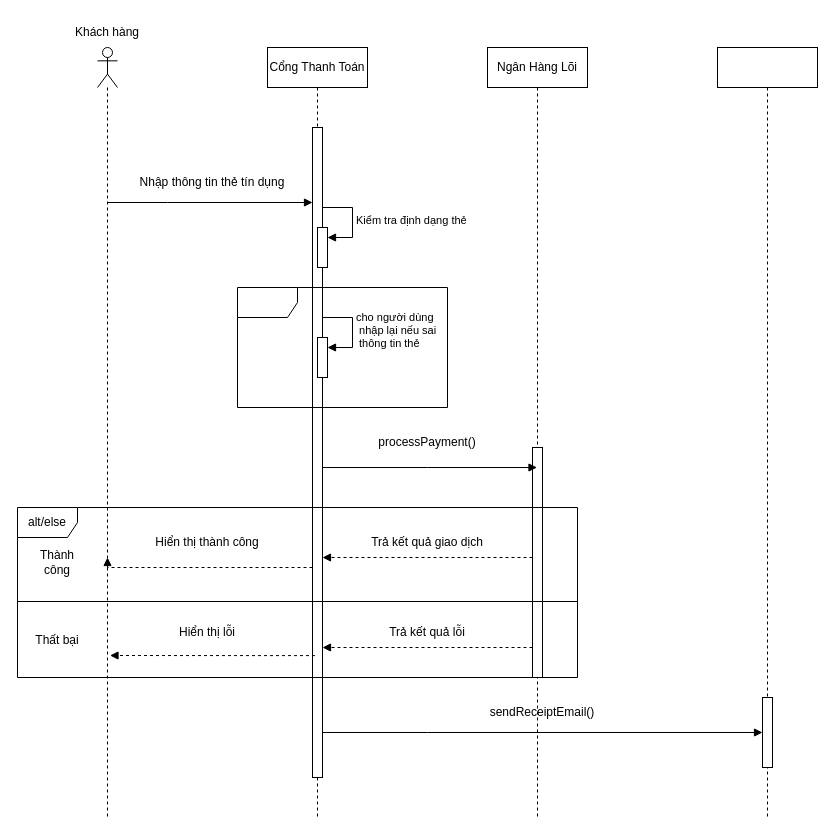
Image size: 835x835. Some labels were removed from this diagram. The box of each missing label's shape, as (x1, y1, x2, y2) in pixels:
EmailServer: (716, 46, 818, 818)
loop: (236, 286, 448, 408)
